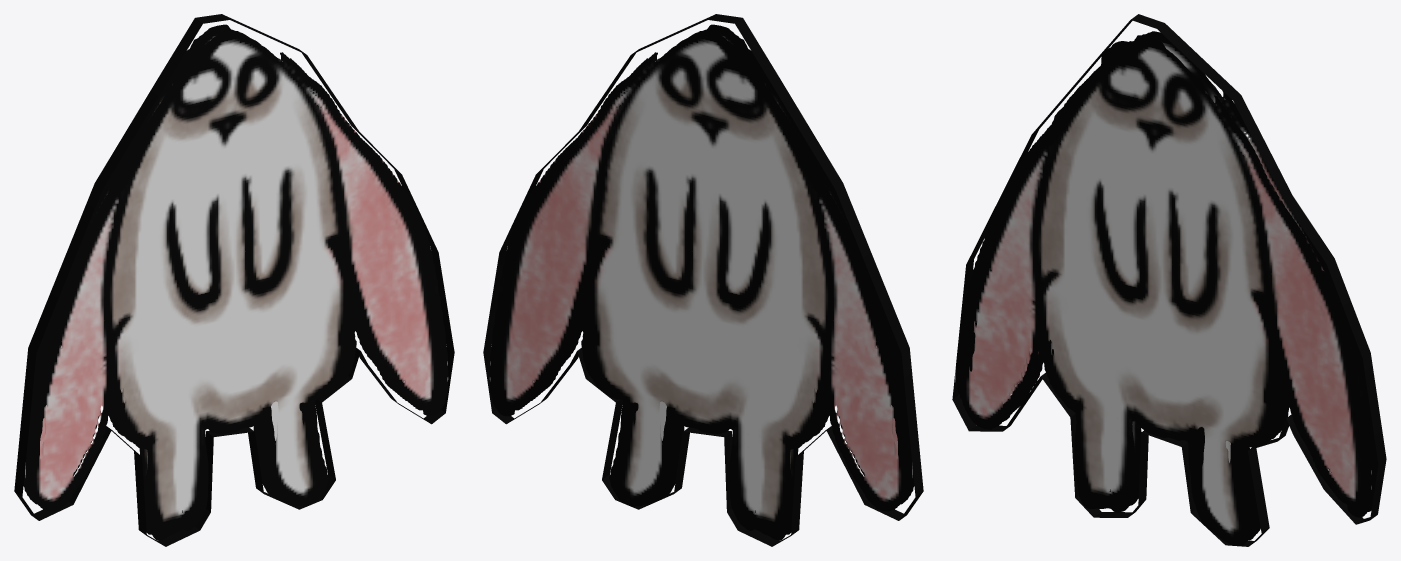
Rendered from BunnyFlying.fbx.
The picture shows the model from 3 angles, left to right: view 1: azimuth 30°, elevation 25°; view 2: azimuth 150°, elevation 25°; view 3: azimuth 330°, elevation 25°; orthographic projection.
Visible parts, largest first — view 1: BunnyFlying_MDL; view 2: BunnyFlying_MDL; view 3: BunnyFlying_MDL.
Boxes of the visible parts, left/top/right/bottom form: BunnyFlying_MDL: left=14, top=14, right=454, bottom=546; BunnyFlying_MDL: left=483, top=14, right=923, bottom=546; BunnyFlying_MDL: left=952, top=14, right=1386, bottom=546.
Size of the model in its own units: 61.41 by 69.8 by 2.
2 materials, 1 textured.
